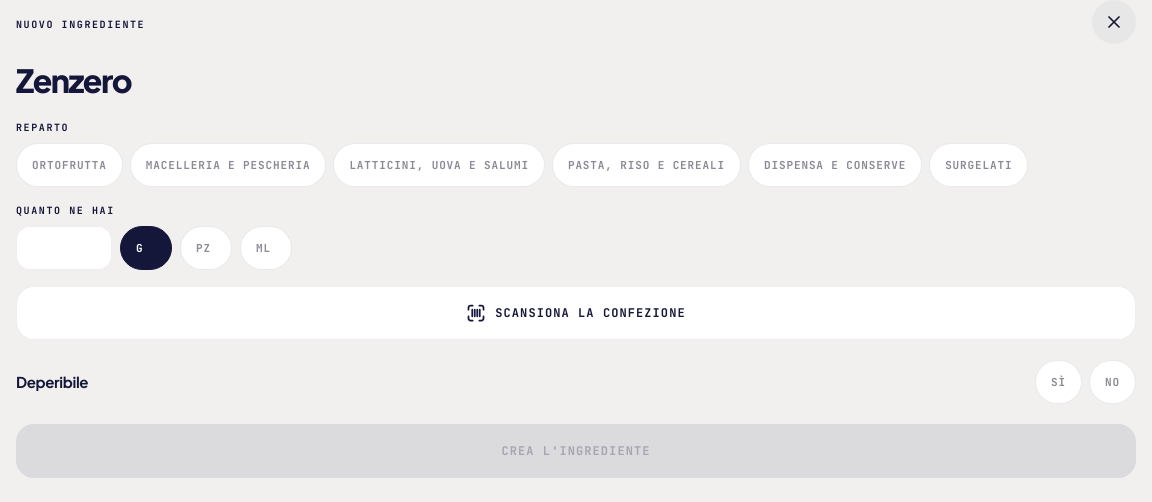
NuovoIngrediente › nome iniziale "Zenzero": nessun reparto premuto, CREA spento; scelto ORTOFRUTTA si accende e Deperibile SÌ è premuto
The width and height of the screenshot is (1152, 502).
Expected: the button "CREA L'INGREDIENTE" is disabled, [16, 424, 1136, 478]
Click the button "ORTOFRUTTA" at [69, 165], box [16, 143, 123, 187]
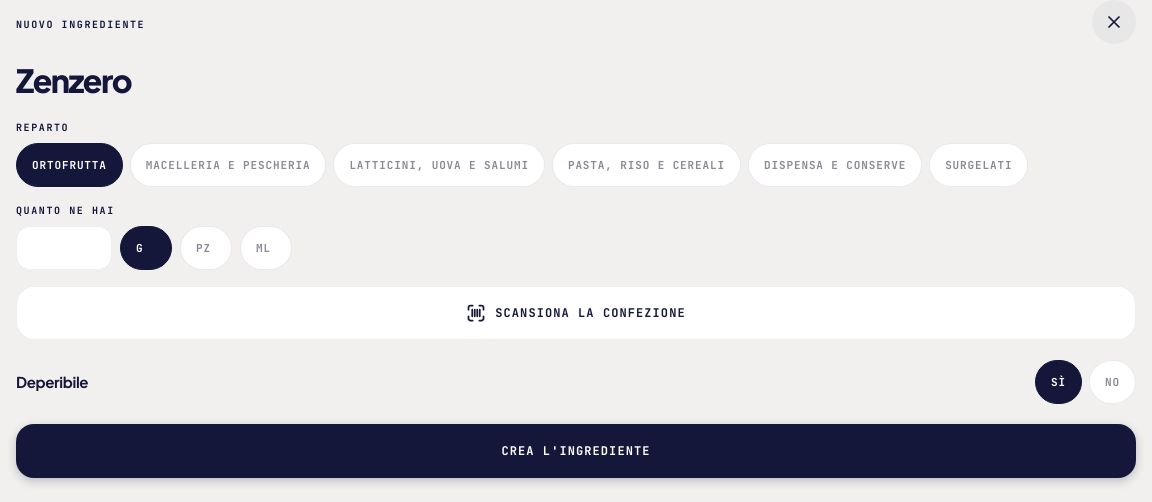
Expected: the button "CREA L'INGREDIENTE" is enabled, [16, 424, 1136, 478]
